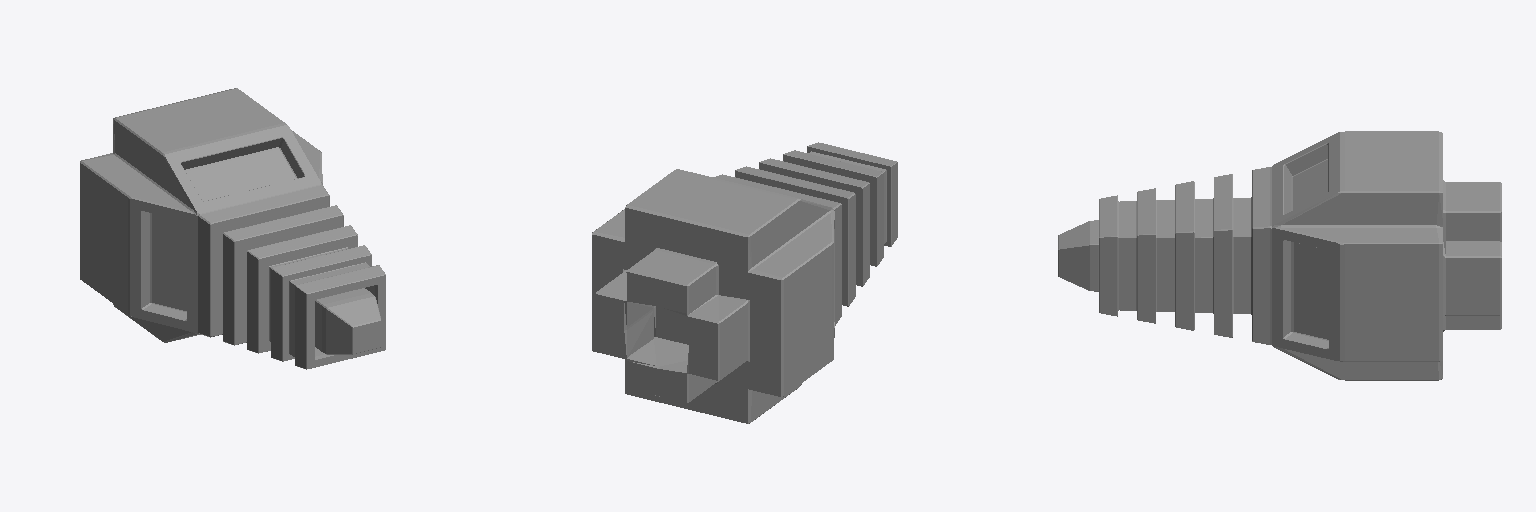
Rendered from EngineTip03.obj.
3 renders of one model, left to right at view 1: azimuth 30°, elevation 25°; view 2: azimuth 150°, elevation 25°; view 3: azimuth 270°, elevation 25°, orthographic.
Visible parts, largest first — view 1: EngineTip03_Cube.003; view 2: EngineTip03_Cube.003; view 3: EngineTip03_Cube.003.
Part boxes in pixels (bbox=[...]): EngineTip03_Cube.003: bbox=[80, 88, 385, 369]; EngineTip03_Cube.003: bbox=[592, 142, 897, 423]; EngineTip03_Cube.003: bbox=[1058, 131, 1501, 380].
Size of the model in its own units: 1.15 by 1.08 by 2.3.